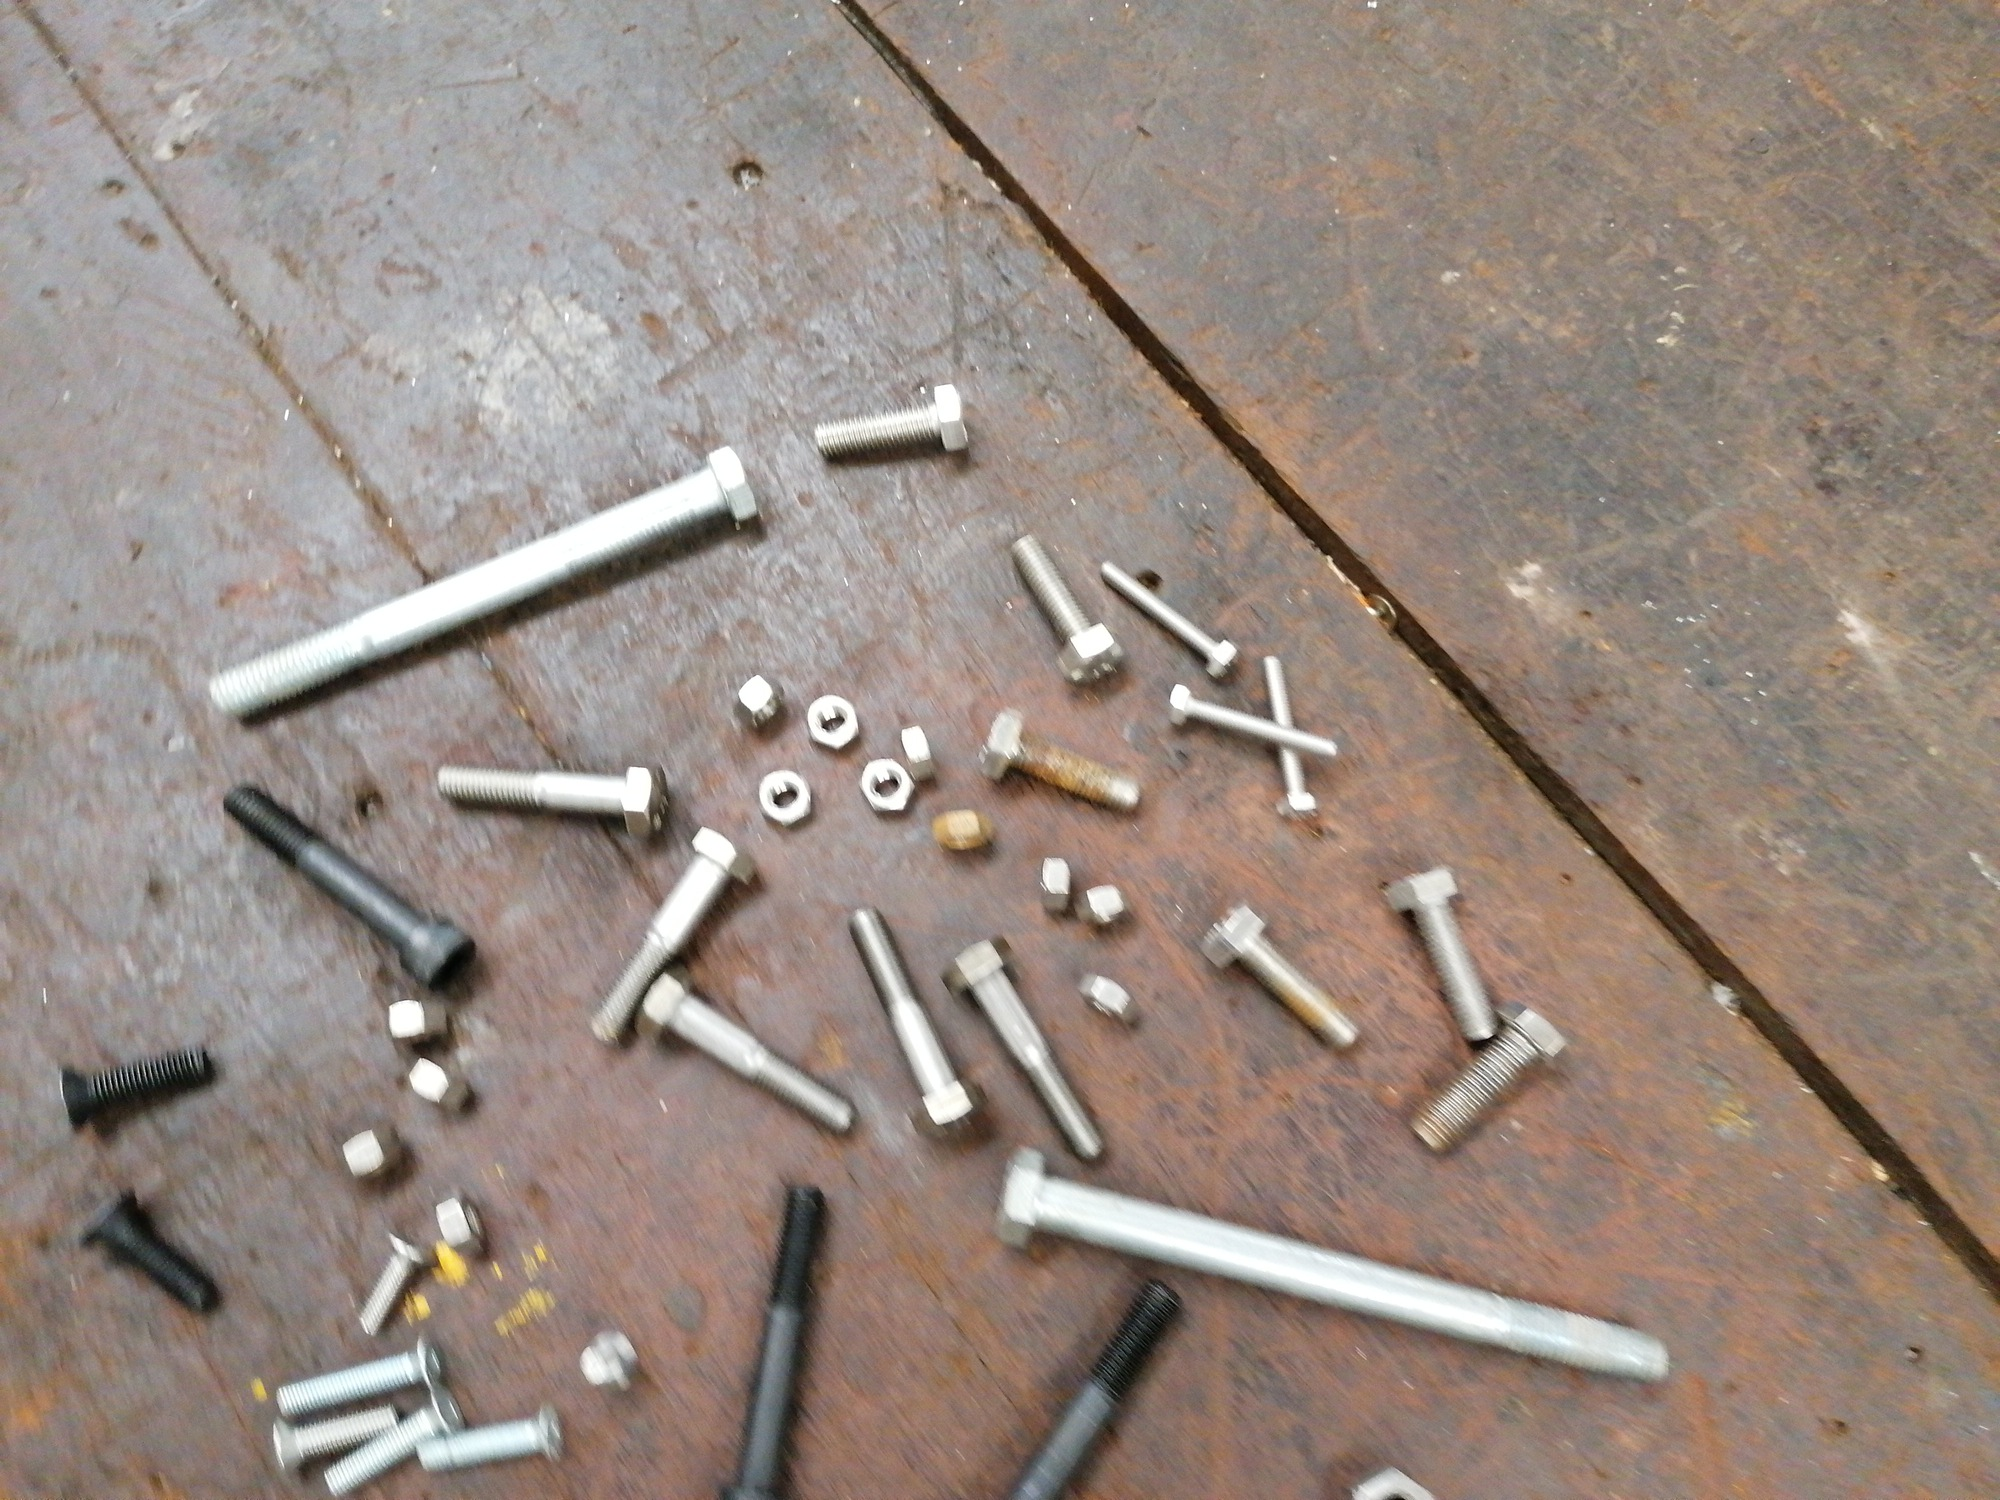bolt: (994, 1145, 1671, 1387), (206, 444, 762, 718), (224, 782, 476, 993), (1003, 1275, 1183, 1500), (635, 964, 857, 1139), (939, 933, 1106, 1161), (586, 824, 754, 1049), (713, 1183, 825, 1498), (847, 903, 991, 1138), (1406, 996, 1572, 1153), (1198, 900, 1361, 1053), (1384, 863, 1499, 1043), (436, 759, 669, 838), (79, 1186, 220, 1316), (1009, 533, 1124, 689), (975, 707, 1143, 813), (1098, 559, 1239, 681), (323, 1379, 465, 1498), (1164, 679, 1337, 764), (276, 1333, 446, 1420), (58, 1045, 216, 1130), (813, 381, 969, 462), (416, 1401, 564, 1473), (1258, 652, 1321, 819), (272, 1402, 405, 1473), (357, 1229, 438, 1338), (573, 1328, 641, 1394)
nut: (431, 1186, 490, 1256), (335, 1123, 402, 1183), (406, 1054, 472, 1112), (756, 766, 814, 830), (1077, 971, 1143, 1027), (858, 756, 915, 816), (731, 671, 786, 733), (805, 692, 858, 752), (1348, 1464, 1435, 1500), (384, 997, 450, 1045), (931, 807, 995, 852), (1074, 882, 1128, 930), (898, 723, 937, 782), (1036, 854, 1072, 914)
